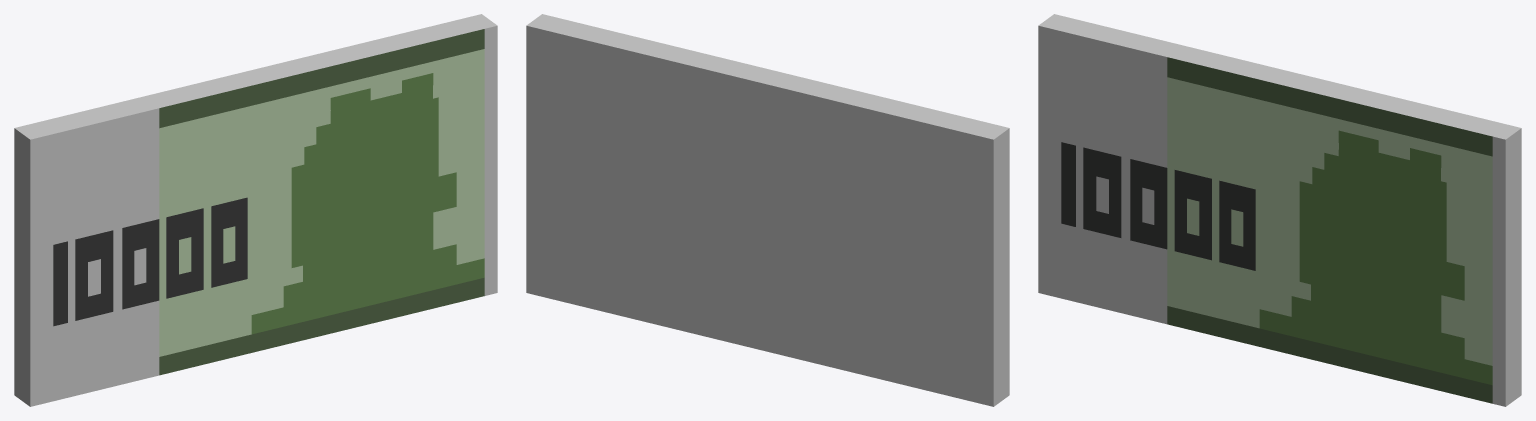
3 renders of one model, left to right at view 1: azimuth 30°, elevation 25°; view 2: azimuth 150°, elevation 25°; view 3: azimuth 330°, elevation 25°, orthographic.
Visible parts, largest first — view 1: Box002; view 2: Box002; view 3: Box002.
Boxes of the visible parts, x1=… form: Box002: x1=14, y1=14, x2=497, y2=406; Box002: x1=526, y1=14, x2=1009, y2=406; Box002: x1=1038, y1=14, x2=1521, y2=406.
Bounding box in the file's own units: 45.44 × 24.83 × 2.68.
Materials: 1 (1 with a texture image).
